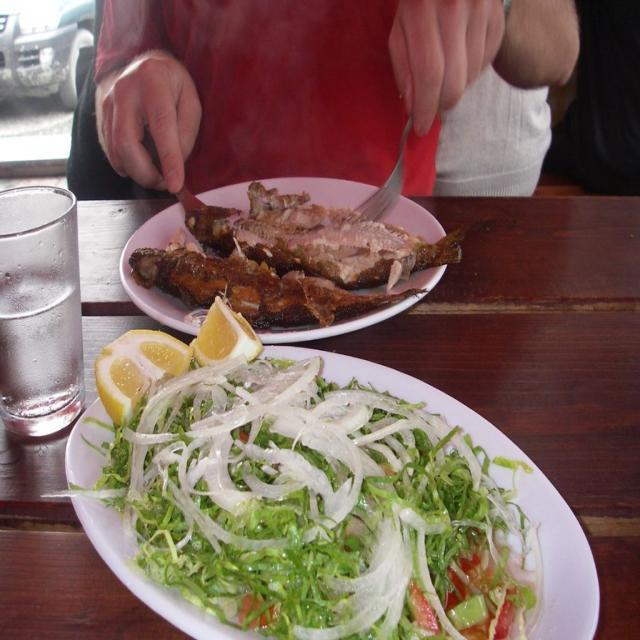Salad: (66, 284, 544, 636)
